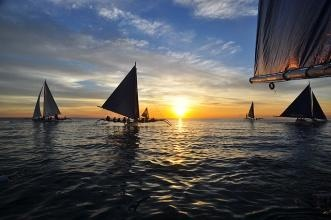fanchuan: (99, 59, 171, 126), (276, 84, 328, 125), (31, 75, 67, 123), (245, 101, 267, 122)
